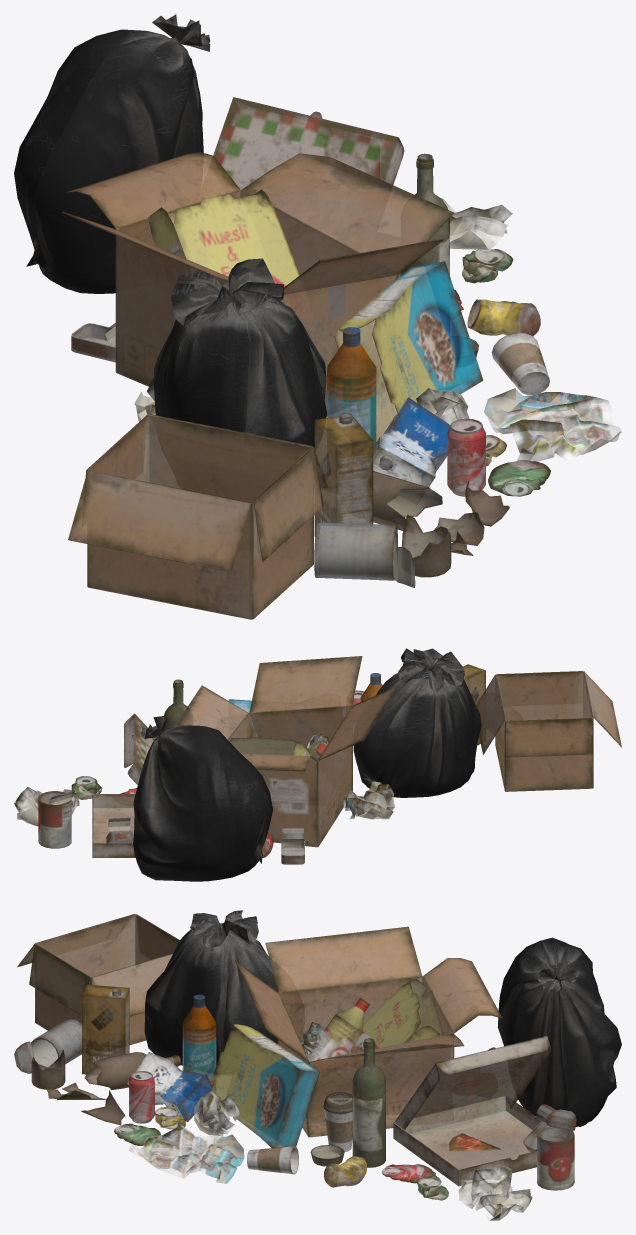
Rendered from Rubbish.fbx.
3 views of the same model, one above another, from view 1: azimuth 30°, elevation 25°; view 2: azimuth 150°, elevation 25°; view 3: azimuth 270°, elevation 25° (orthographic). The views are drawn at different scales.
Visible parts, largest first — view 1: Obj3d66_9976496_11_905, Obj3d66_9976496_2_264, Obj3d66_9976496_12_821, Obj3d66_9976496_29_489, Obj3d66_9976496_26_845, Obj3d66_9976496_18_591, Obj3d66_9976496_33_39, Obj3d66_9976496_20_346, Obj3d66_9976496_4_841, Obj3d66_9976496_9_659, Obj3d66_9976496_30_368, Obj3d66_9976496_22_433 (+9 smaller); view 2: Obj3d66_9976496_11_905, Obj3d66_9976496_12_821, Obj3d66_9976496_2_264, Obj3d66_9976496_26_845, Obj3d66_9976496_21_963, Obj3d66_9976496_10_869, Obj3d66_9976496_18_591, Obj3d66_9976496_19_774, Obj3d66_9976496_8_643, Obj3d66_9976496_4_841, Obj3d66_9976496_27_610, Obj3d66_9976496_28_574 (+2 smaller); view 3: Obj3d66_9976496_11_905, Obj3d66_9976496_12_821, Obj3d66_9976496_26_845, Obj3d66_9976496_2_264, Obj3d66_9976496_29_489, Obj3d66_9976496_18_591, Obj3d66_9976496_33_39, Obj3d66_9976496_20_346, Obj3d66_9976496_4_841, Obj3d66_9976496_27_610, Obj3d66_9976496_21_963, Obj3d66_9976496_30_368 (+16 smaller).
Boxes of the visible parts, x1,y1,x2,y2 form: Obj3d66_9976496_11_905: (14, 14, 326, 447); Obj3d66_9976496_2_264: (68, 414, 327, 619); Obj3d66_9976496_12_821: (61, 152, 453, 410); Obj3d66_9976496_29_489: (334, 261, 483, 441); Obj3d66_9976496_26_845: (213, 97, 404, 278); Obj3d66_9976496_18_591: (148, 189, 299, 287); Obj3d66_9976496_33_39: (484, 388, 621, 461); Obj3d66_9976496_20_346: (373, 471, 509, 577); Obj3d66_9976496_4_841: (314, 412, 373, 536); Obj3d66_9976496_9_659: (314, 522, 415, 587); Obj3d66_9976496_30_368: (373, 397, 450, 487); Obj3d66_9976496_22_433: (327, 327, 376, 446); Obj3d66_9976496_11_905: (133, 648, 481, 881); Obj3d66_9976496_12_821: (174, 656, 397, 847); Obj3d66_9976496_2_264: (476, 671, 621, 791); Obj3d66_9976496_26_845: (92, 713, 156, 857); Obj3d66_9976496_21_963: (38, 790, 74, 848); Obj3d66_9976496_10_869: (343, 781, 394, 819); Obj3d66_9976496_18_591: (229, 737, 311, 756); Obj3d66_9976496_19_774: (14, 787, 79, 826); Obj3d66_9976496_8_643: (281, 828, 304, 864); Obj3d66_9976496_4_841: (463, 664, 485, 745); Obj3d66_9976496_27_610: (164, 679, 187, 730); Obj3d66_9976496_28_574: (106, 817, 132, 843); Obj3d66_9976496_11_905: (144, 910, 621, 1126); Obj3d66_9976496_12_821: (235, 926, 502, 1137); Obj3d66_9976496_26_845: (393, 1036, 551, 1186); Obj3d66_9976496_2_264: (17, 914, 179, 1045); Obj3d66_9976496_29_489: (208, 1024, 319, 1148); Obj3d66_9976496_18_591: (337, 978, 443, 1091); Obj3d66_9976496_33_39: (128, 1123, 244, 1183); Obj3d66_9976496_20_346: (31, 1049, 181, 1125); Obj3d66_9976496_4_841: (82, 984, 129, 1074); Obj3d66_9976496_27_610: (352, 1038, 385, 1167); Obj3d66_9976496_21_963: (537, 1109, 576, 1190); Obj3d66_9976496_30_368: (127, 1052, 212, 1121).
Bounding box in the file's own units: 128 × 43.4 × 139.
